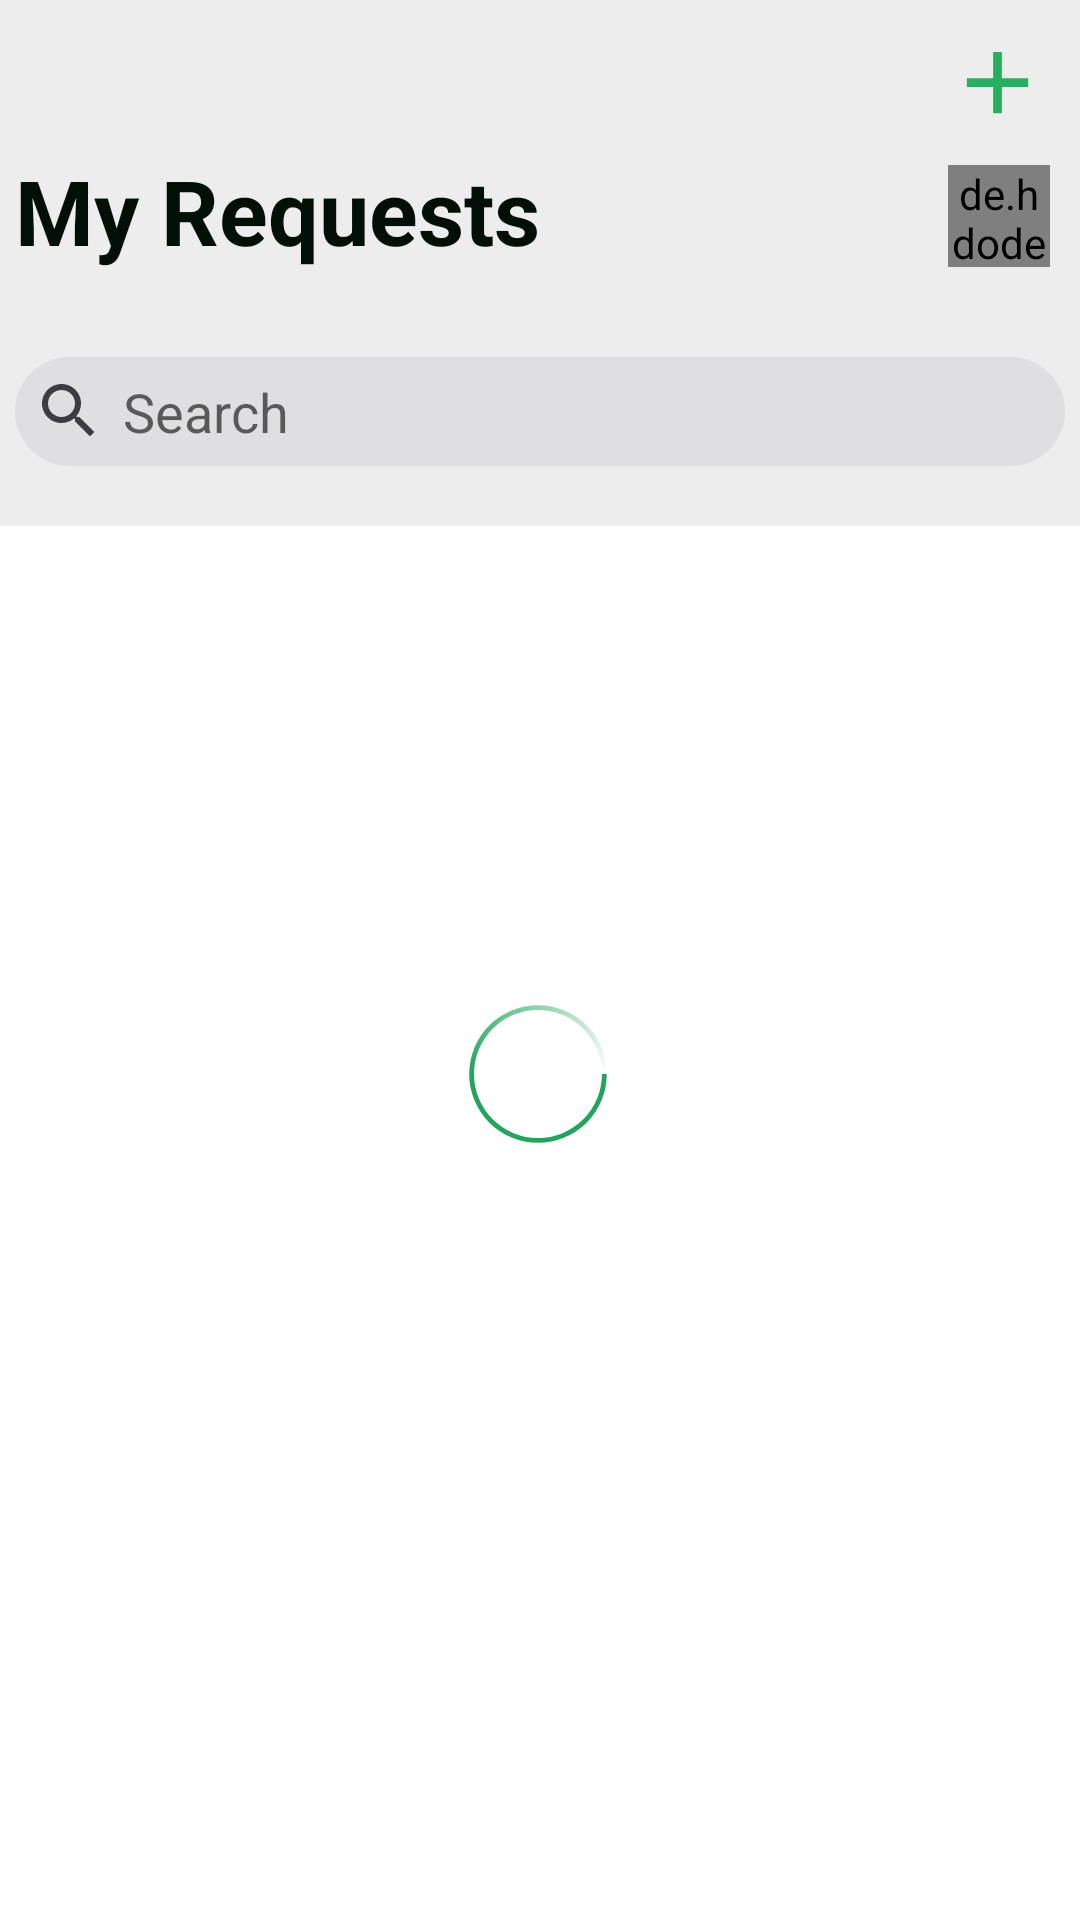

Icon click points for this 1080px x 1920px phone screenshot, format [x,y]:
add: [997,83]
